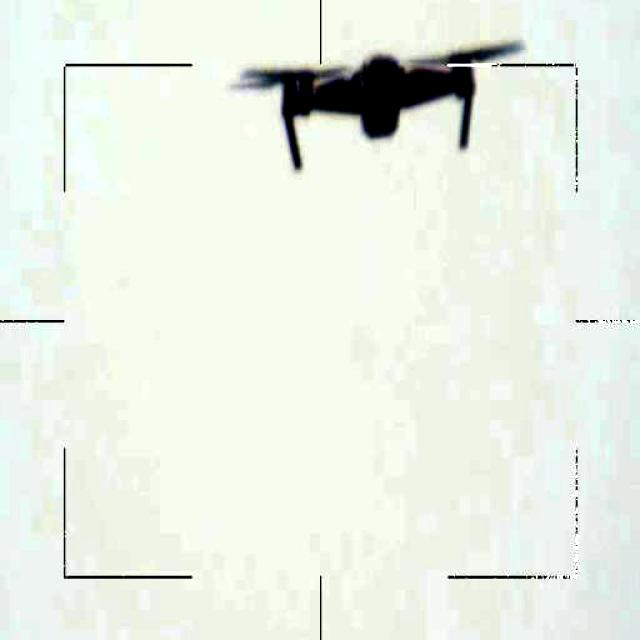bird: (229, 30, 529, 176)
